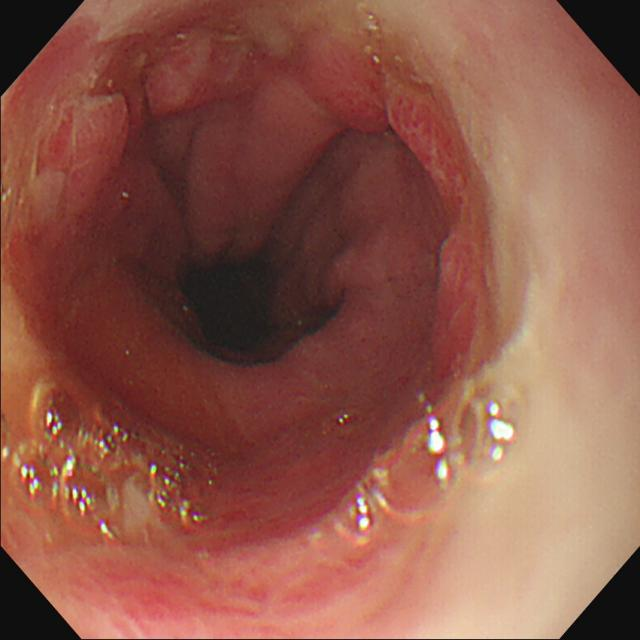A: (386, 79, 473, 216), (49, 88, 135, 208), (294, 43, 390, 135), (146, 36, 239, 114)
E: (184, 259, 278, 343)
T: (16, 382, 214, 543), (340, 380, 524, 540)
